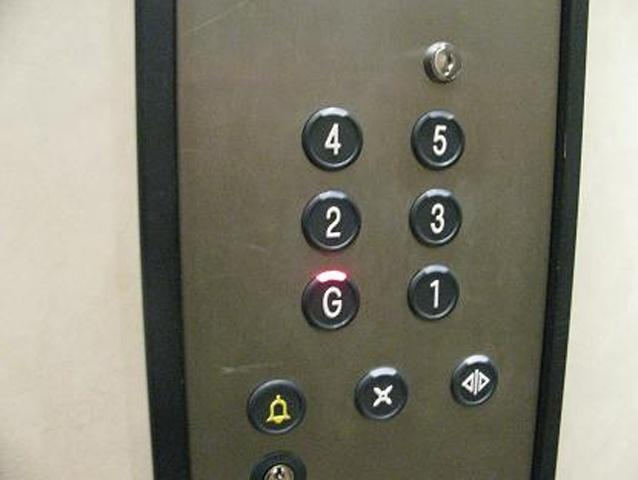1: (403, 260, 460, 325)
2: (297, 186, 363, 255)
3: (405, 184, 465, 248)
4: (298, 104, 364, 173)
5: (407, 107, 467, 173)
G: (298, 266, 361, 332)
alarm: (243, 376, 307, 436)
keyhole: (420, 38, 464, 86)
open: (448, 351, 498, 408)
unknown: (351, 363, 409, 422)
